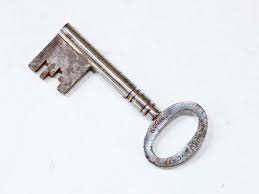kicharina: (28, 20, 213, 168)
